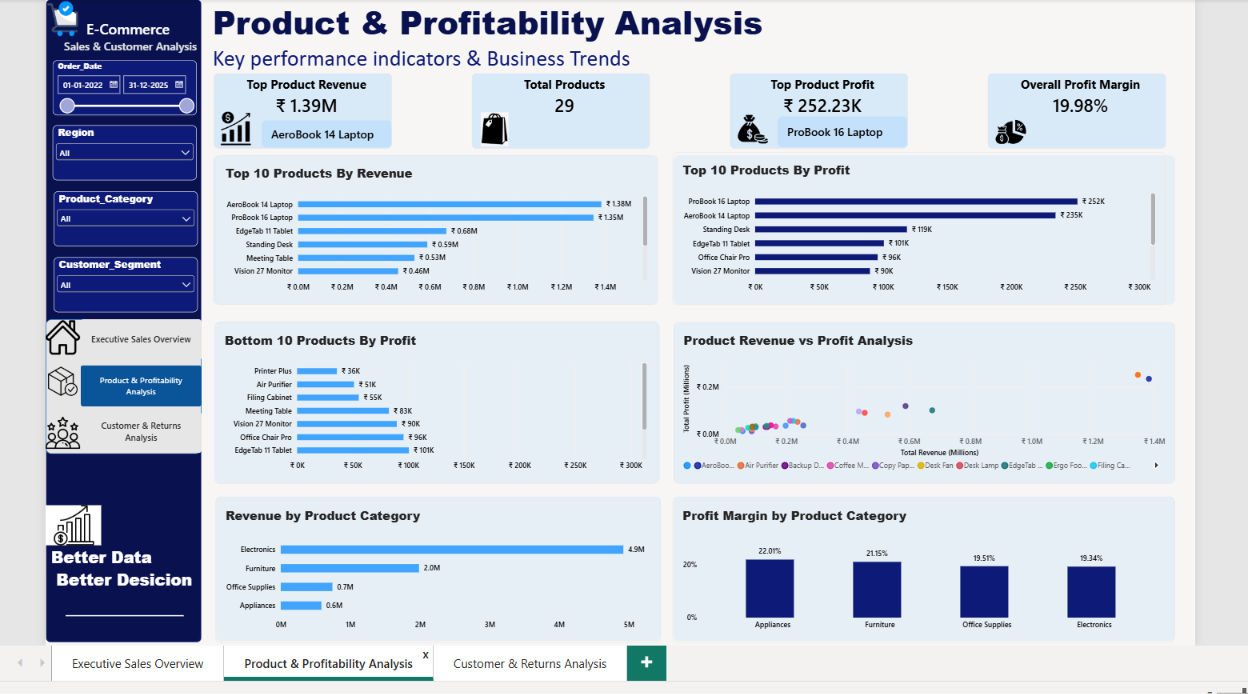

Layout of this report page (visuals, bound fields, positions):
{"tool":"powerbi","page":{"name":"Product & Profitability Analysis","canvas":[1920,1080],"ordinal":1},"visuals":[{"type":"shape","box":[0,0,260.6,1074],"z":0},{"type":"textbox","box":[278.7,0,939.2,128.5],"z":1000},{"type":"textbox","box":[0,32.6,260.6,81.4],"z":2000},{"type":"image","box":[0,1.8,57.9,61.5],"z":3000},{"type":"shape","box":[278.7,260.6,743.8,249.7],"z":4000},{"type":"shape","box":[1047.8,260.6,837.9,249.7],"z":5000},{"type":"shape","box":[282.3,537.5,743.8,271.4],"z":6000},{"type":"shape","box":[1047.8,539.3,837.9,269.6],"z":7000},{"type":"shape","box":[284.1,830.6,743.8,242.5],"z":8000},{"type":"shape","box":[1047.8,830.6,837.9,242.5],"z":9000},{"type":"slicer","fields":{"Values":["Cleaned CSV.Order_Date"]},"box":[10.9,101.3,240.7,92.3],"z":10000},{"type":"slicer","fields":{"Values":["Cleaned CSV.Region"]},"box":[10.9,209.9,240.7,92.3],"z":11000},{"type":"slicer","fields":{"Values":["Cleaned CSV.Product_Category"]},"box":[12.7,320.3,240.7,92.3],"z":12000},{"type":"slicer","fields":{"Values":["Cleaned CSV.Customer_Segment"]},"box":[12.7,430.7,240.7,92.3],"z":13000},{"type":"clusteredBarChart","title":"Top 10 Products By Revenue","fields":{"Category":["Cleaned CSV.Product_Name"],"Y":["Cleaned CSV.Total Revenue"]},"box":[284.1,260.6,738.3,249.7],"z":14000},{"type":"clusteredBarChart","title":"Top 10 Products By Profit","fields":{"Category":["Cleaned CSV.Product_Name"],"Y":["Cleaned CSV.Total Profit"]},"box":[1047.7,255.2,823.3,255.2],"z":15000},{"type":"scatterChart","title":"Product Revenue vs Profit Analysis","fields":{"X":["Cleaned CSV.Total Revenue"],"Y":["Cleaned CSV.Total Profit"],"Series":["Cleaned CSV.Product_Name"]},"box":[1047.8,539.3,837.9,269.6],"z":16000},{"type":"clusteredBarChart","title":"Bottom 10 Products By Profit ","fields":{"Category":["Cleaned CSV.Product_Name"],"Y":["Cleaned CSV.Total Profit"]},"box":[282,539.3,738.9,269.6],"z":17000},{"type":"clusteredBarChart","title":"Revenue by Product Category","fields":{"Category":["Cleaned CSV.Product_Category"],"Y":["Sum(Cleaned CSV.Sales_Amount)"]},"box":[284,831.6,743.1,242.9],"z":18000},{"type":"clusteredColumnChart","title":"Profit Margin by Product Category","fields":{"Y":["Cleaned CSV.Profit Margin %"],"Category":["Cleaned CSV.Product_Category"]},"box":[1047.7,831.6,837.7,242.9],"z":19000},{"type":"cardVisual","fields":{"Data":["Cleaned CSV.Top Product Revenue"]},"box":[280.5,123.1,298.6,126.7],"z":20000},{"type":"cardVisual","fields":{"Data":["Cleaned CSV.Total Products"]},"box":[711.2,123.1,298.6,126.7],"z":21000},{"type":"cardVisual","fields":{"Data":["Cleaned CSV.Top Product Profit"]},"box":[1141.9,123.1,298.6,126.7],"z":22000},{"type":"cardVisual","fields":{"Data":["Cleaned CSV.Overall Profit Margin"]},"box":[1572.6,123.1,298.6,126.7],"z":23000},{"type":"image","box":[278.7,186.4,77.8,57.9],"z":24000},{"type":"image","box":[1141.9,188.2,77,57],"z":25000},{"type":"image","box":[711.2,188.2,77,57],"z":26000},{"type":"image","box":[1572.6,193.6,77,57],"z":27000},{"type":"cardVisual","fields":{"Data":["Cleaned CSV.Top Revenue Product Name"]},"box":[361,202.8,217.7,46.5],"z":28000},{"type":"cardVisual","fields":{"Data":["Cleaned CSV.Top Profit Product Name"]},"box":[1222.6,195.4,217.7,52.1],"z":29000},{"type":"shape","box":[0,534.1,260.5,225.2],"z":30000},{"type":"image","box":[0.7,536.7,57.7,57.7],"z":31000},{"type":"image","box":[0.7,611.1,57.7,54],"z":32000},{"type":"image","box":[0,690.4,57.7,68.9],"z":33000},{"type":"pageNavigator","box":[57.7,534.1,202.8,225.2],"z":34000},{"type":"textbox","box":[0,911.8,260.5,94.9],"z":35000},{"type":"shape","box":[0,844.8,93,67],"z":36000},{"type":"image","box":[0,844.8,94.9,67],"z":37000},{"type":"shape","box":[33.5,1004.8,197.2,48.4],"z":37001}]}

Visuals, with their boxes on the page's 1920x1080 design canvas (x1, y1, x2, y2). These are canvas units, not pixel positions in the 1248x694 screenshot, which may show the page scaled, cropped or inside an application window:
shape: box=[0, 0, 261, 1074]
textbox: box=[279, 0, 1218, 128]
textbox: box=[0, 33, 261, 114]
image: box=[0, 2, 58, 63]
shape: box=[279, 261, 1022, 510]
shape: box=[1048, 261, 1886, 510]
shape: box=[282, 538, 1026, 809]
shape: box=[1048, 539, 1886, 809]
shape: box=[284, 831, 1028, 1073]
shape: box=[1048, 831, 1886, 1073]
slicer - Cleaned CSV.Order_Date: box=[11, 101, 252, 194]
slicer - Cleaned CSV.Region: box=[11, 210, 252, 302]
slicer - Cleaned CSV.Product_Category: box=[13, 320, 253, 413]
slicer - Cleaned CSV.Customer_Segment: box=[13, 431, 253, 523]
"Top 10 Products By Revenue" clusteredBarChart: box=[284, 261, 1022, 510]
"Top 10 Products By Profit" clusteredBarChart: box=[1048, 255, 1871, 510]
"Product Revenue vs Profit Analysis" scatterChart: box=[1048, 539, 1886, 809]
"Bottom 10 Products By Profit " clusteredBarChart: box=[282, 539, 1021, 809]
"Revenue by Product Category" clusteredBarChart: box=[284, 832, 1027, 1074]
"Profit Margin by Product Category" clusteredColumnChart: box=[1048, 832, 1885, 1074]
cardVisual - Cleaned CSV.Top Product Revenue: box=[280, 123, 579, 250]
cardVisual - Cleaned CSV.Total Products: box=[711, 123, 1010, 250]
cardVisual - Cleaned CSV.Top Product Profit: box=[1142, 123, 1440, 250]
cardVisual - Cleaned CSV.Overall Profit Margin: box=[1573, 123, 1871, 250]
image: box=[279, 186, 356, 244]
image: box=[1142, 188, 1219, 245]
image: box=[711, 188, 788, 245]
image: box=[1573, 194, 1650, 251]
cardVisual - Cleaned CSV.Top Revenue Product Name: box=[361, 203, 579, 249]
cardVisual - Cleaned CSV.Top Profit Product Name: box=[1223, 195, 1440, 248]
shape: box=[0, 534, 260, 759]
image: box=[1, 537, 58, 594]
image: box=[1, 611, 58, 665]
image: box=[0, 690, 58, 759]
pageNavigator: box=[58, 534, 260, 759]
textbox: box=[0, 912, 260, 1007]
shape: box=[0, 845, 93, 912]
image: box=[0, 845, 95, 912]
shape: box=[34, 1005, 231, 1053]
